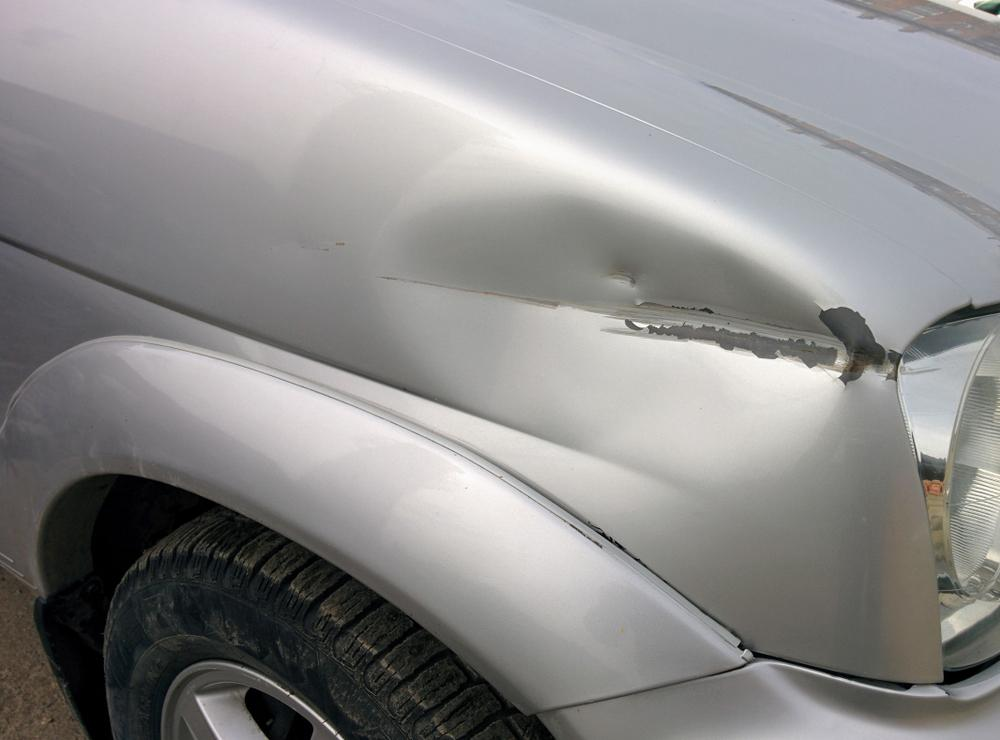dent: (377, 185, 848, 485)
